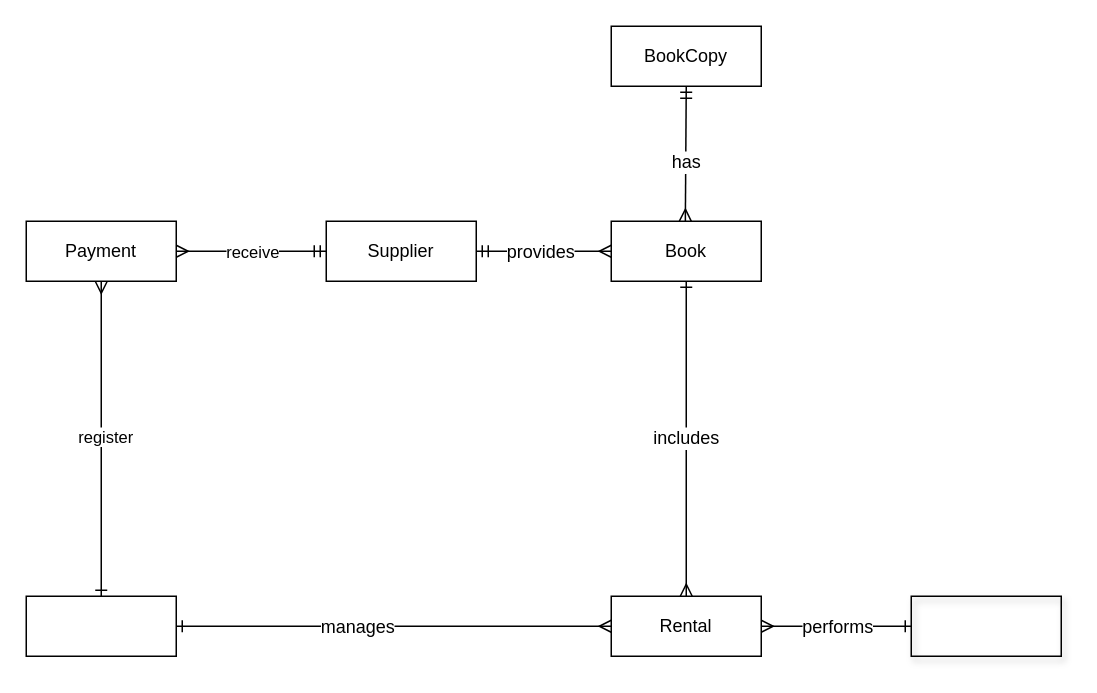
Some shapes in this 1097 by 693 pixel diagram are drawn without their labels. The shapes that lost their labels are listed below. From the top down, each one's centre as x and y in pixels, then its label:
(100,625): Employee
(987,628): Customer
